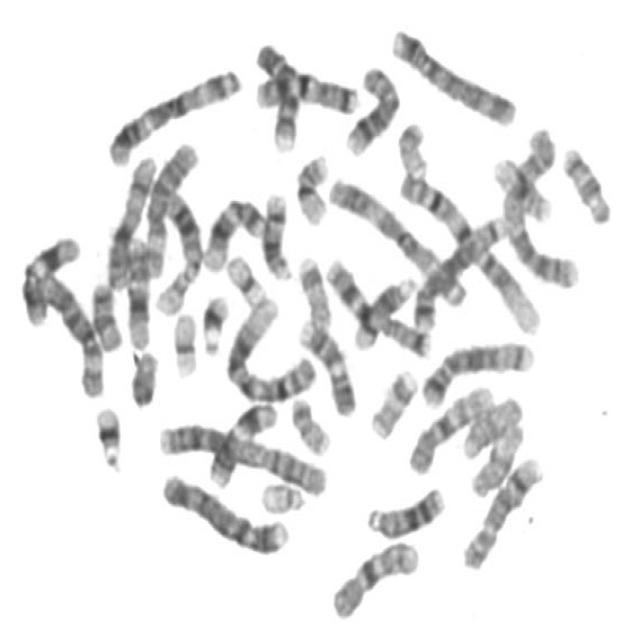A1: (394, 164, 546, 337), (220, 290, 321, 405)
A2: (154, 413, 332, 497), (494, 122, 582, 290)
A3: (323, 167, 472, 309), (102, 56, 246, 168)
B4: (384, 17, 521, 127), (155, 463, 292, 556)
B5: (408, 205, 513, 334), (416, 330, 538, 409)
C10: (402, 375, 497, 477), (324, 531, 424, 623)
C11: (204, 392, 282, 490), (16, 225, 84, 327)
C12: (197, 187, 272, 273), (120, 228, 154, 351)
C6: (29, 262, 108, 399), (138, 132, 202, 279)
C7: (319, 248, 434, 358), (249, 61, 363, 116)
C8: (456, 447, 546, 572), (340, 55, 404, 157)
C9: (293, 310, 361, 418), (249, 31, 303, 154)
D13: (361, 476, 448, 541), (156, 183, 205, 290)
D14: (348, 266, 420, 351), (257, 182, 296, 282)
D15: (466, 413, 528, 500), (457, 385, 528, 460)
E16: (488, 148, 557, 222), (290, 143, 334, 227)
E17: (365, 359, 421, 442), (292, 246, 334, 330)
E18: (558, 136, 616, 225), (85, 272, 125, 352)
F19: (221, 244, 273, 310), (166, 302, 202, 379)
F20: (285, 386, 335, 456), (392, 112, 432, 178)
G21: (89, 395, 126, 473), (195, 283, 233, 357)
G22: (392, 112, 432, 178), (256, 471, 310, 514)
X: (100, 146, 161, 292)
Y: (124, 340, 162, 409)
